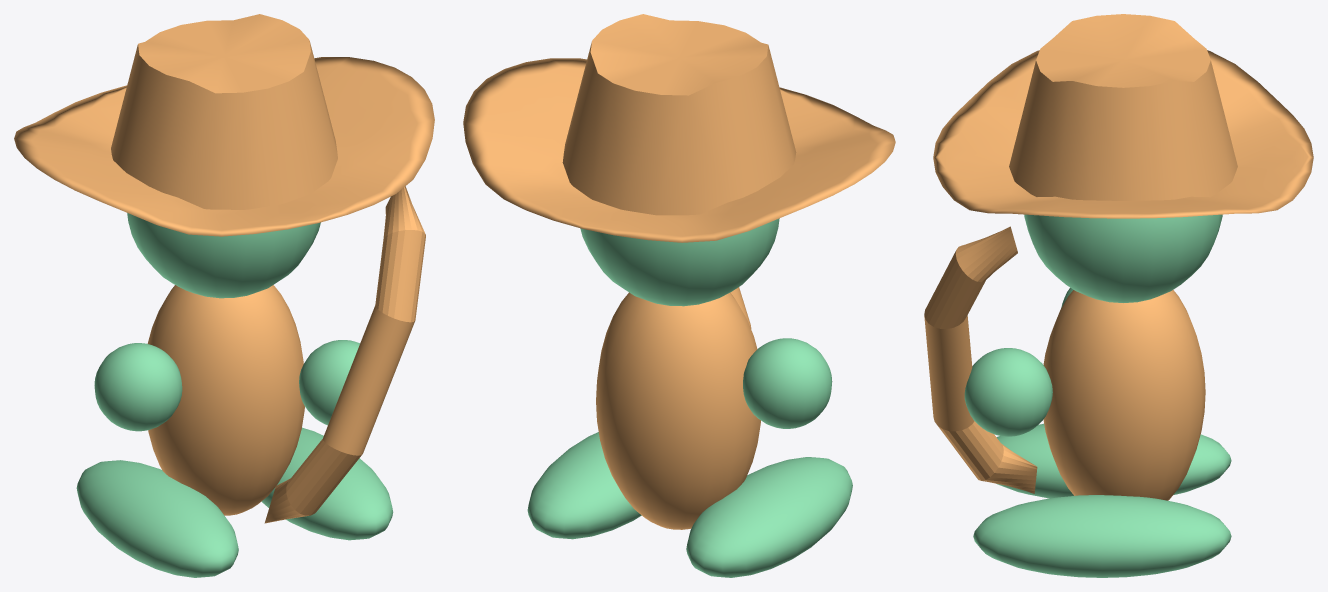
The model's file is Player.fbx.
3 renders of one model, left to right at view 1: azimuth 30°, elevation 25°; view 2: azimuth 150°, elevation 25°; view 3: azimuth 270°, elevation 25°, orthographic. The views are drawn at different scales.
Parts seen in each view (by area): view 1: pCylinder4; view 2: pCylinder4; view 3: pCylinder4.
Boxes of the visible parts, x1,y1,x2,y2 form: pCylinder4: (14, 14, 434, 577); pCylinder4: (463, 14, 895, 577); pCylinder4: (924, 14, 1313, 577).
Size of the model in its own units: 1.1 by 1.35 by 0.9868.
